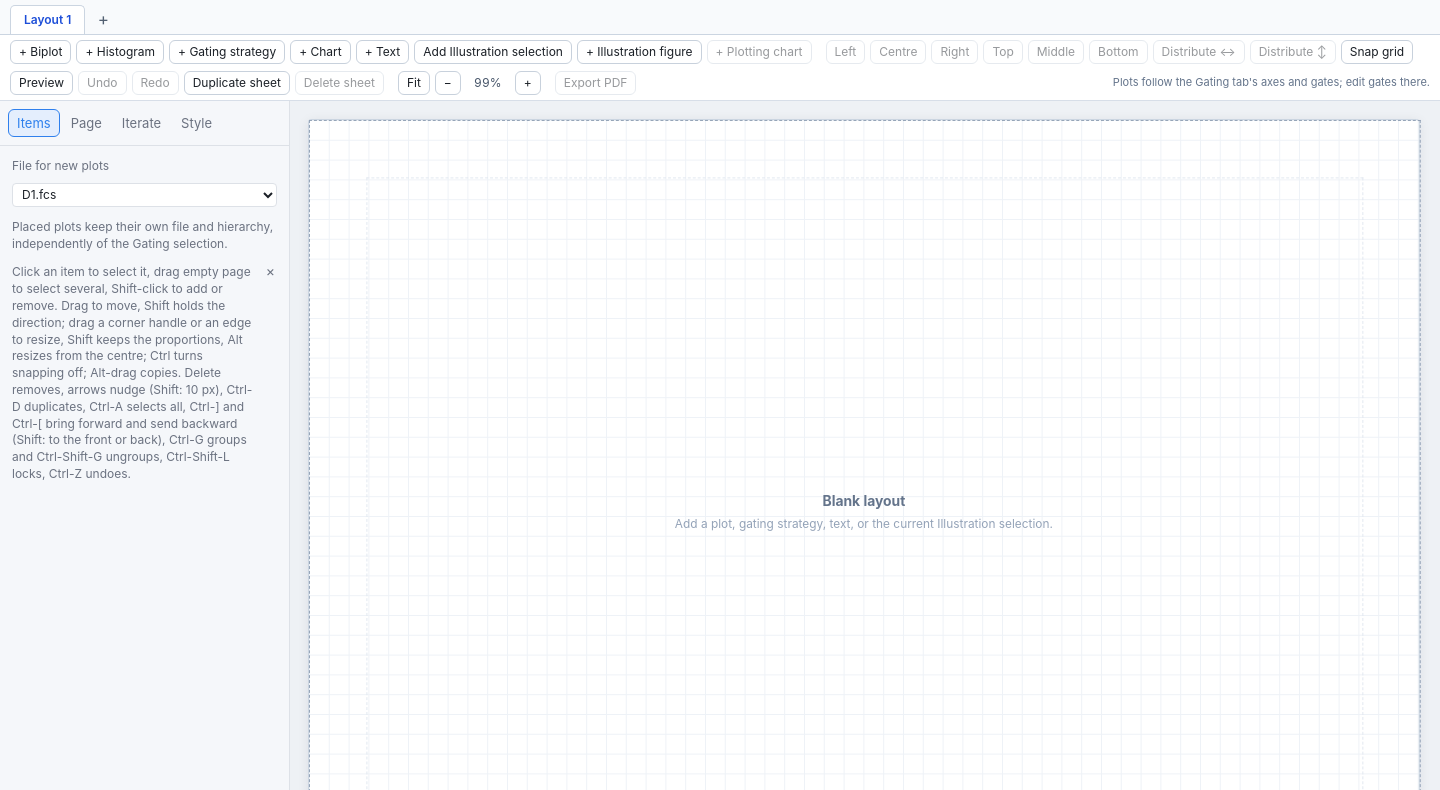
Scenario: LayoutTab plots › adds a summary chart of a population across the files, grouped by a metadata column
Click the button "+ Chart" at (320, 52), box [290, 40, 351, 64]
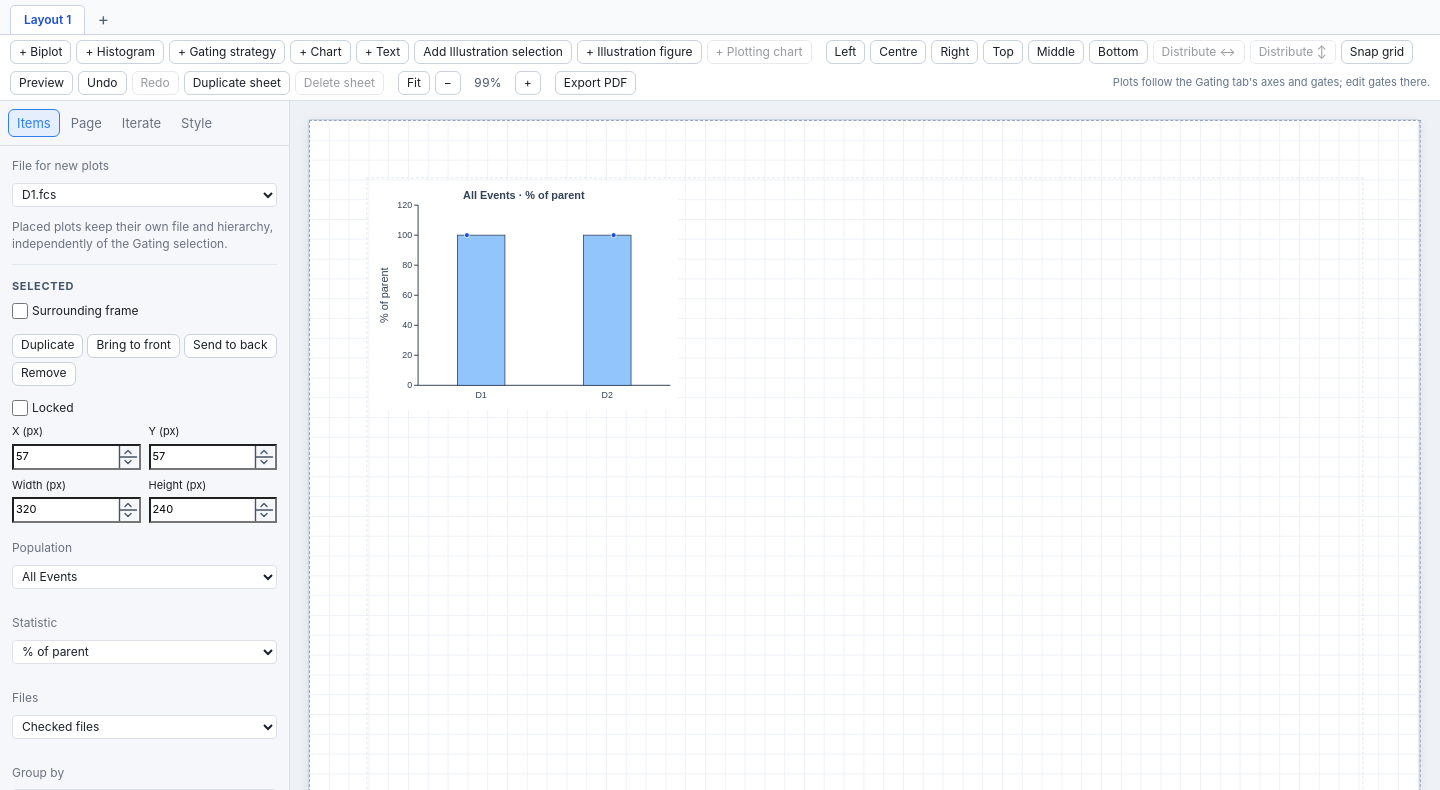
expect the icon is shown: met, box [369, 180, 678, 410]
